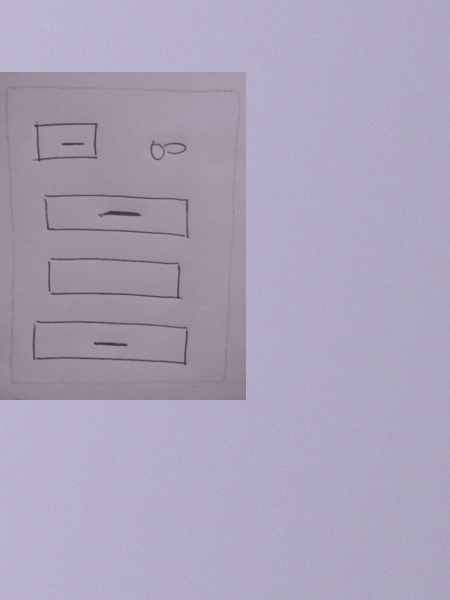button: (28, 316, 194, 372), (39, 190, 193, 242), (30, 120, 103, 166)
switch: (143, 134, 190, 168)
text_input: (41, 251, 188, 305)
